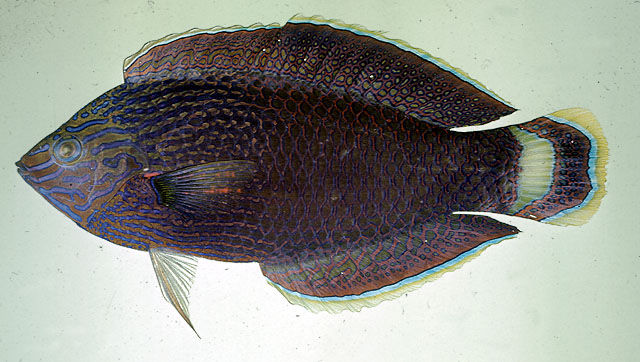fish: (15, 12, 611, 339)
